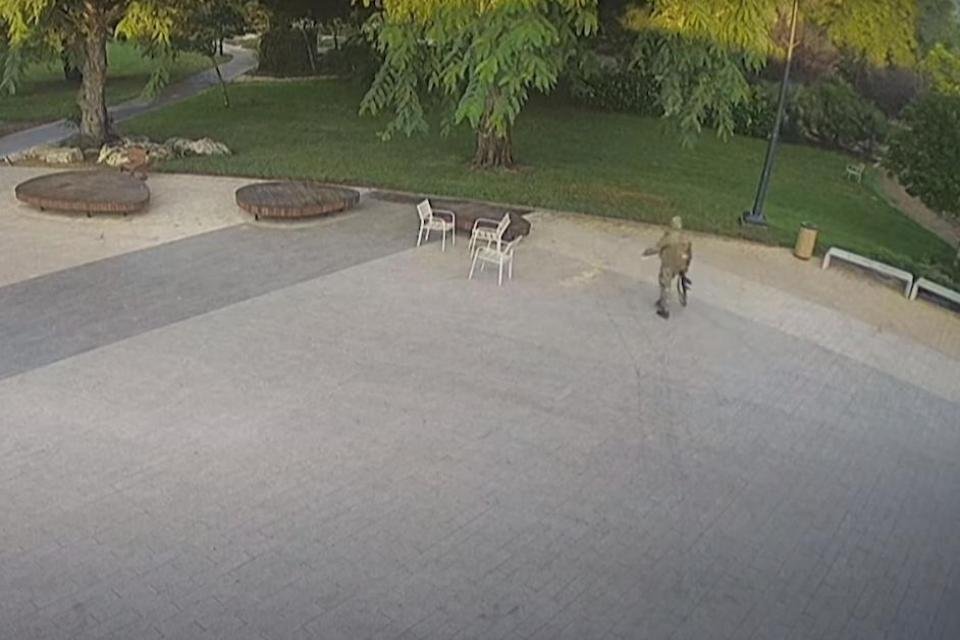non-violence: (639, 215, 696, 322)
weapon: (676, 270, 694, 308)
